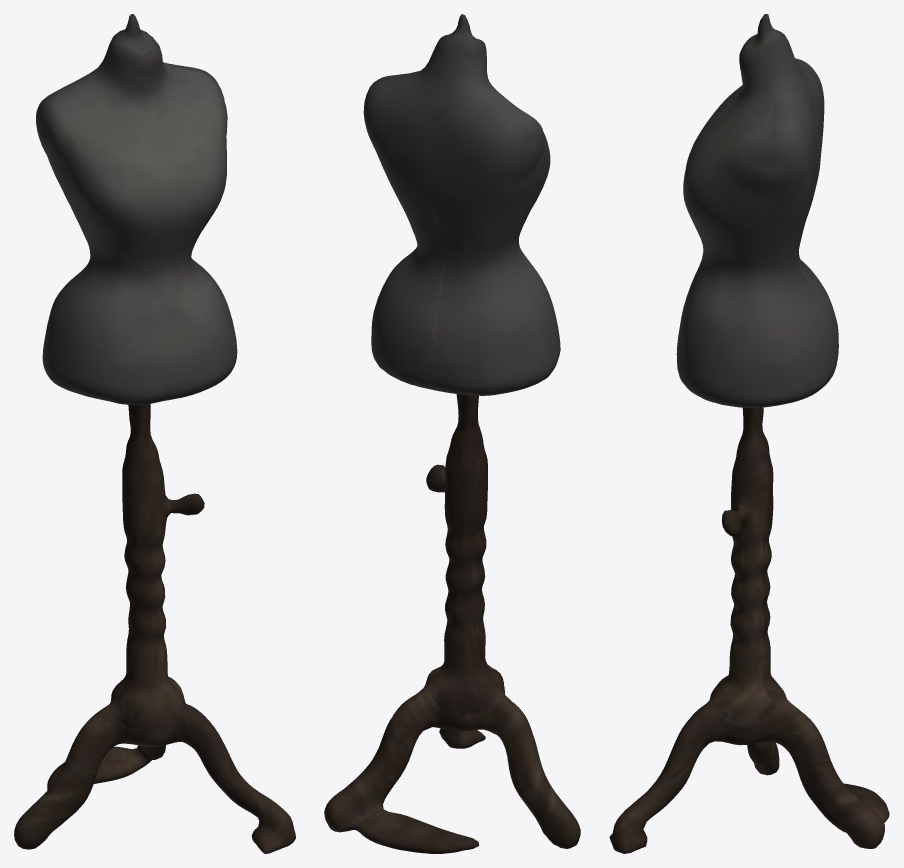
File: t_maniqui_1900.glb
3 views of the same model, side by side, from view 1: azimuth 30°, elevation 25°; view 2: azimuth 150°, elevation 25°; view 3: azimuth 270°, elevation 25° (orthographic).
Parts seen in each view (by area): view 1: Ivanovo dress form_Man1_0; view 2: Ivanovo dress form_Man1_0; view 3: Ivanovo dress form_Man1_0.
Part boxes in pixels (box(x1,y1,x2,y2)): Ivanovo dress form_Man1_0: box(14, 14, 295, 853); Ivanovo dress form_Man1_0: box(324, 14, 580, 853); Ivanovo dress form_Man1_0: box(609, 14, 889, 853).
Bounding box in the file's own units: 0.4335 × 1.6 × 0.5016.
Materials: 1 (1 with a texture image).
